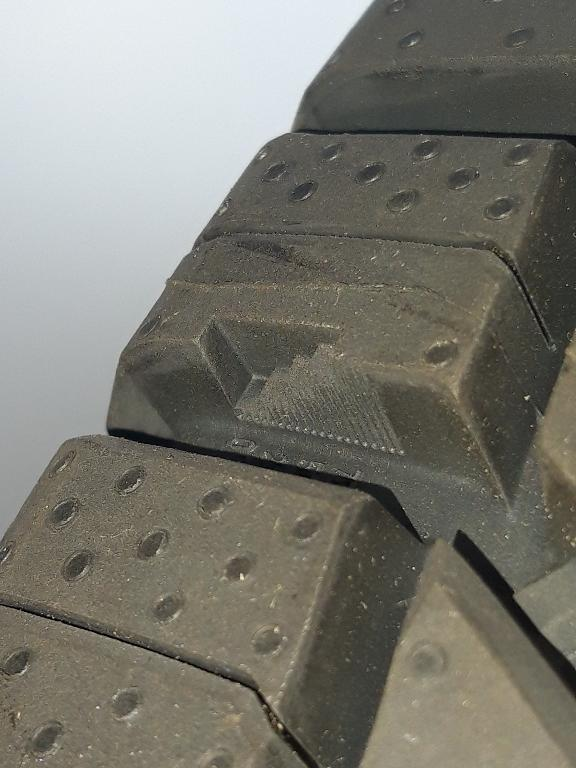temoin:100: (189, 310, 412, 463)
